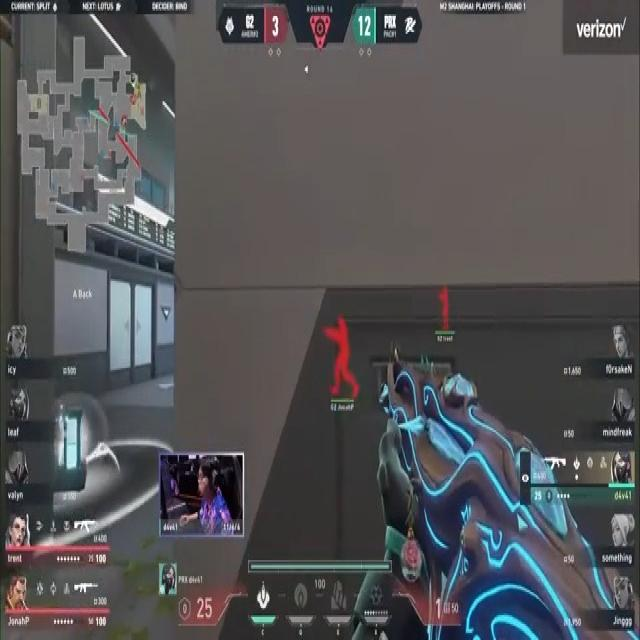enemy behind wall: (321, 312, 362, 406)
spike-planted: (60, 394, 89, 500)
